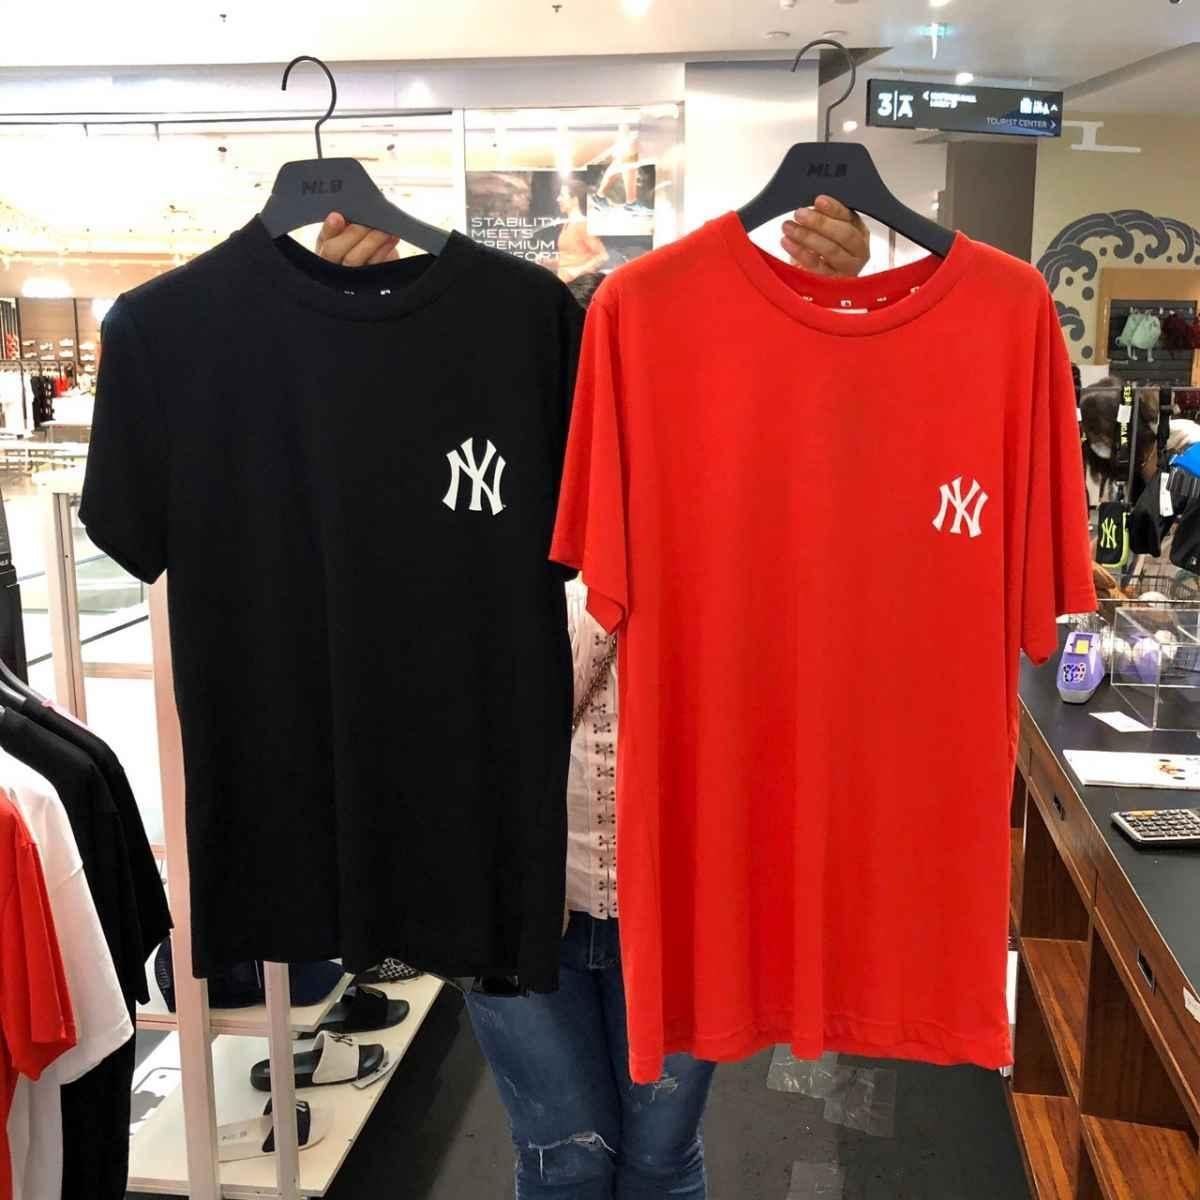Tshirt: (576, 208, 1075, 1031), (88, 218, 593, 968)
